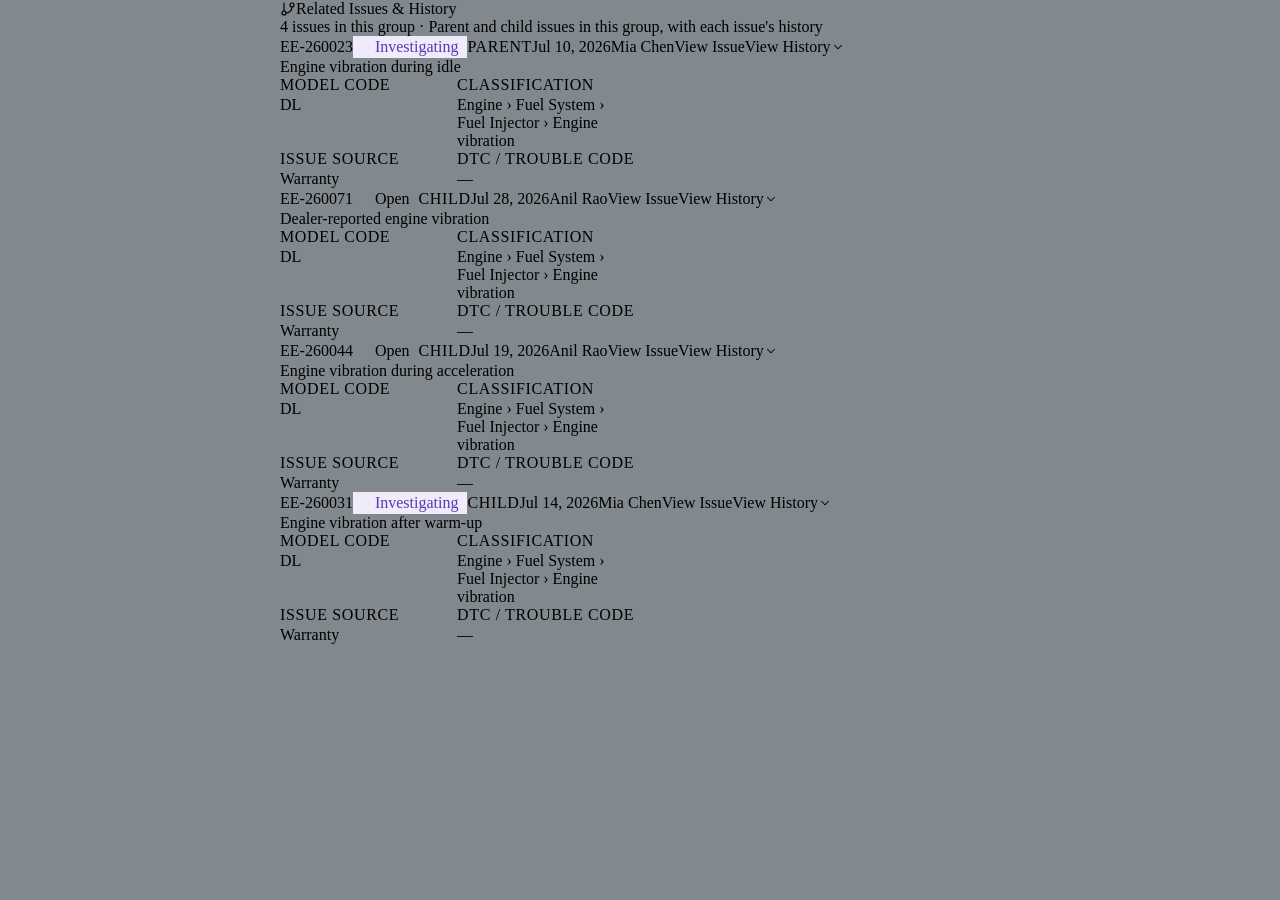
the member accordion › reveals the rest of a long trail when asked
The image size is (1280, 900).
Click the button that starts with "EE-260023" at (316, 46), box [280, 36, 1000, 188]
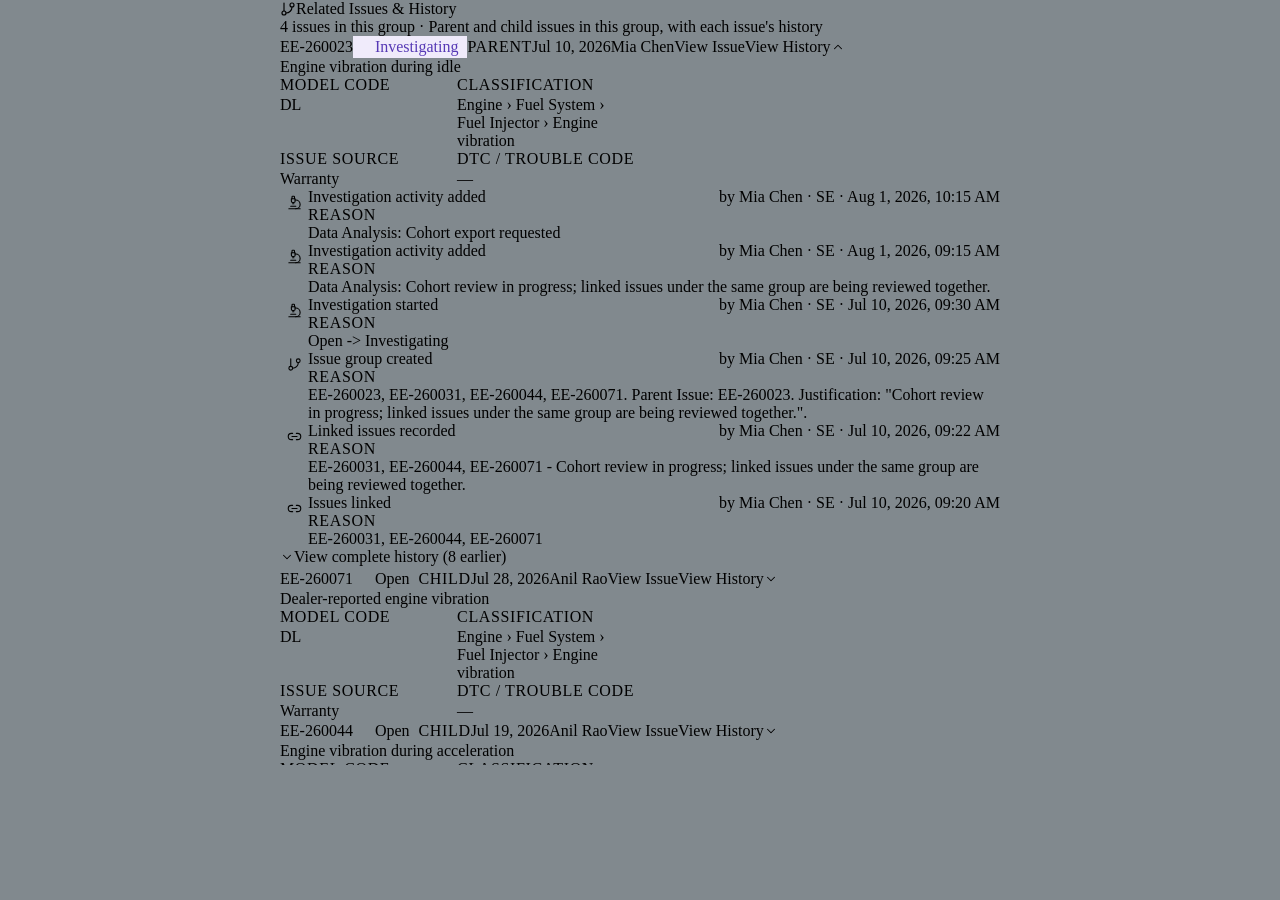
Click the button "View complete history (8 earlier)" at (393, 557), box [280, 548, 506, 566]
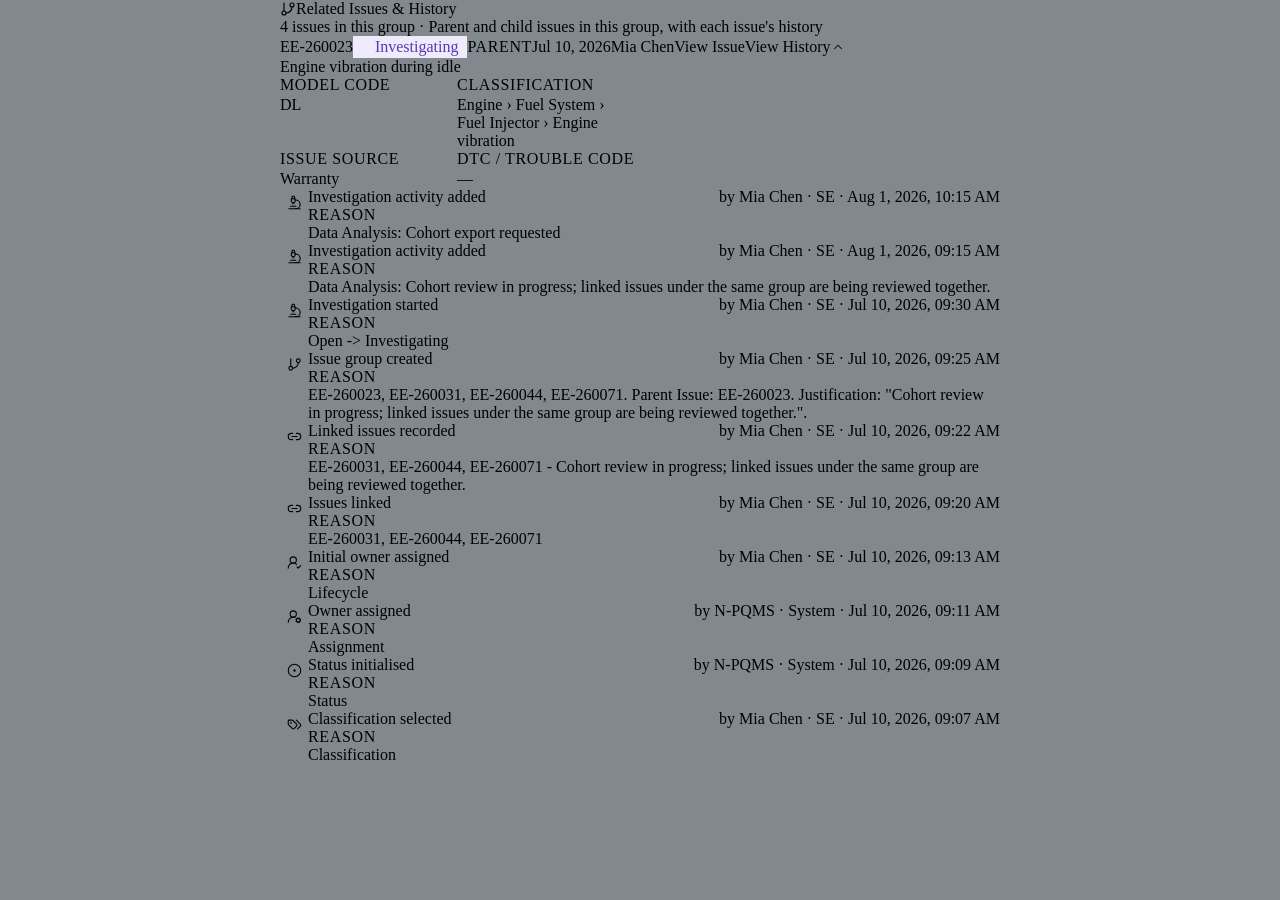
Now the button "View complete history" is gone
